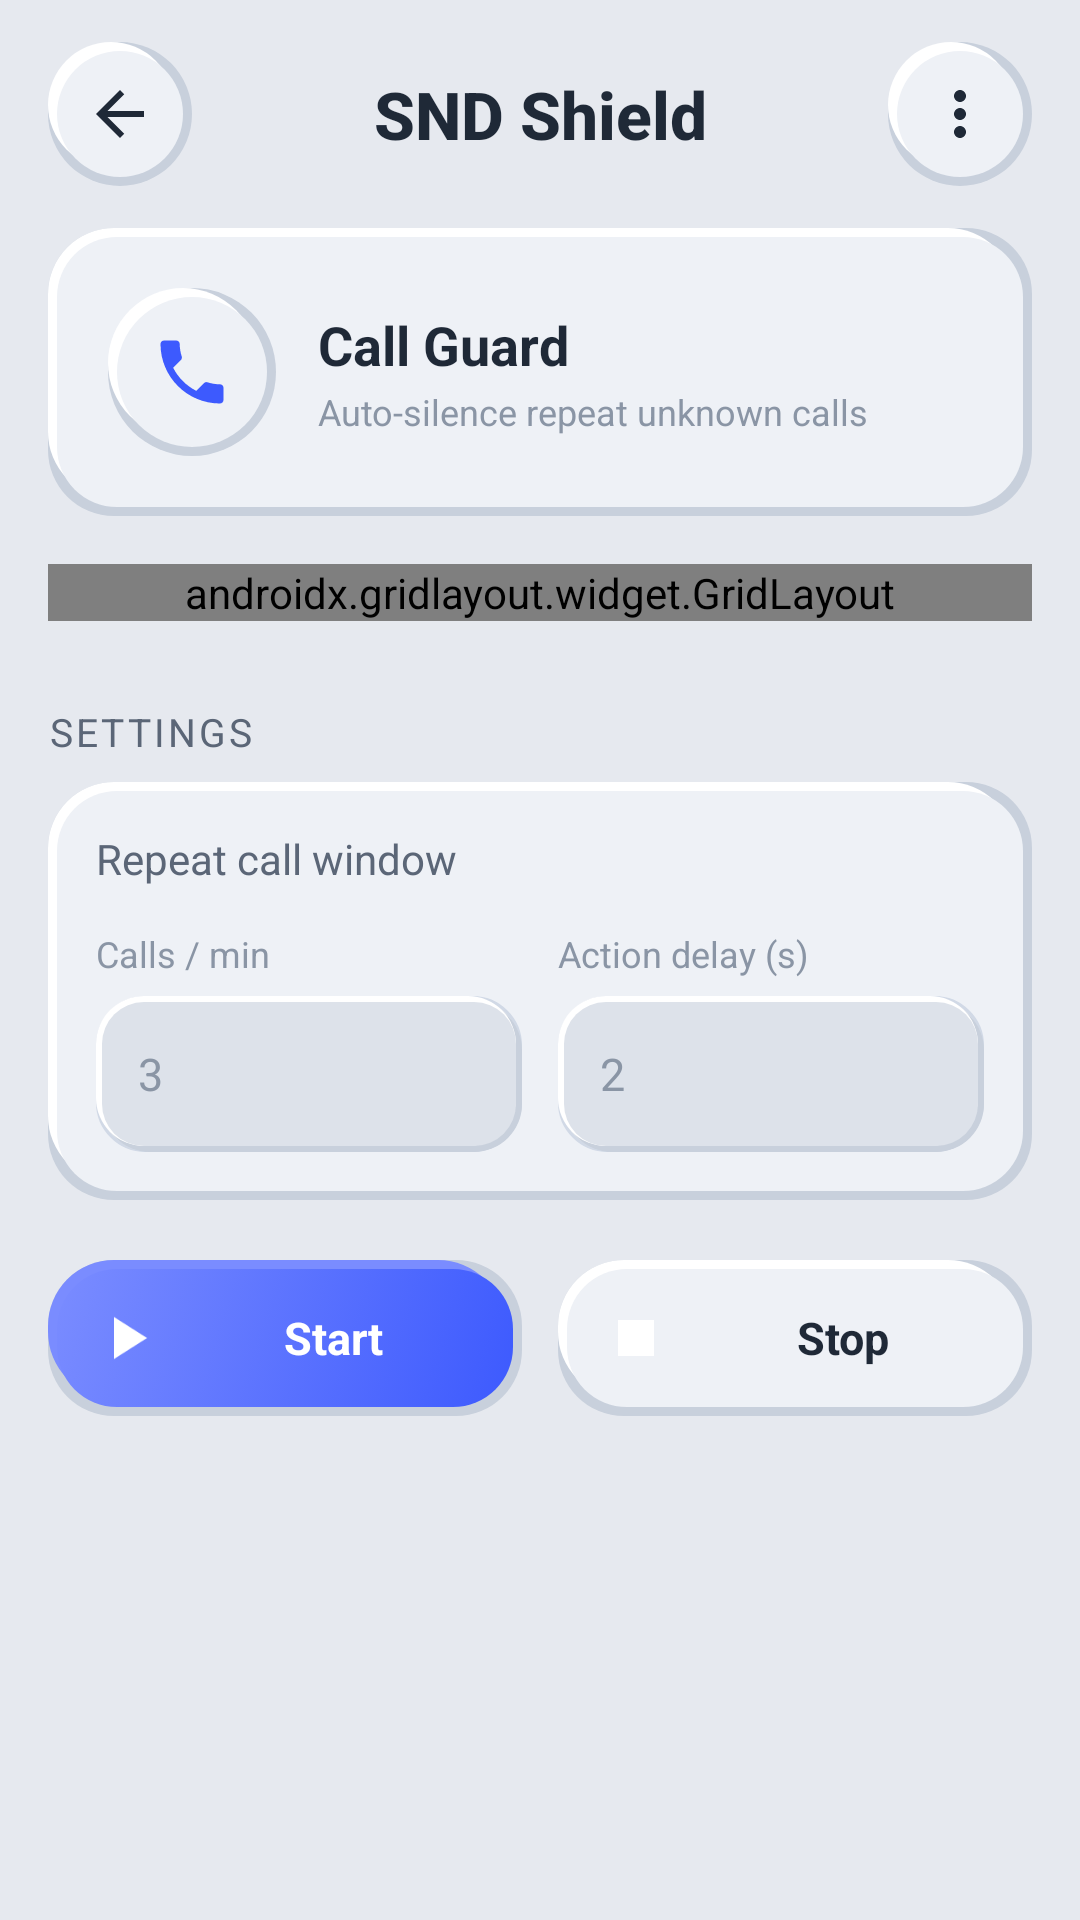

Icon click points for this 1080x1920 phone screenshot, format (x=x, y=y):
Back: (x=120, y=114)
